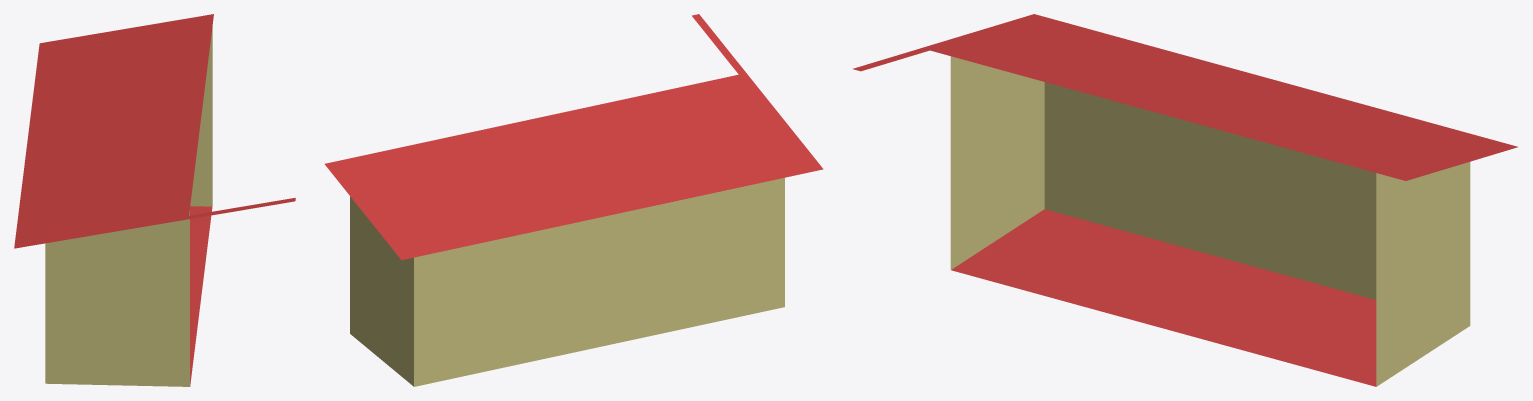
3 views of the same model, side by side, from view 1: azimuth 30°, elevation 25°; view 2: azimuth 150°, elevation 25°; view 3: azimuth 270°, elevation 25° (orthographic). The views are drawn at different scales.
Size of the model in its own units: 13.88 by 18.93 by 7.46.
